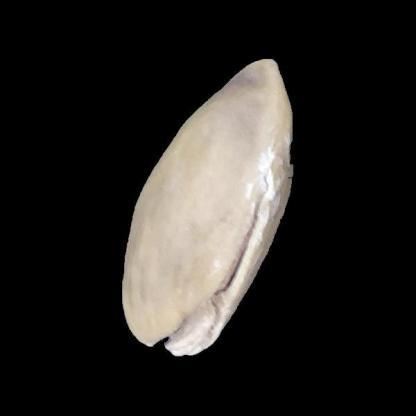pistachio: (121, 53, 301, 366)
